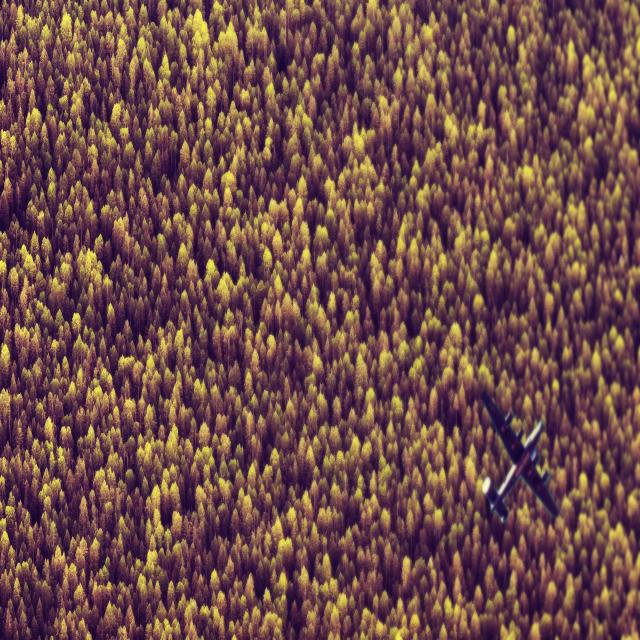airplane: (480, 389, 560, 524)
